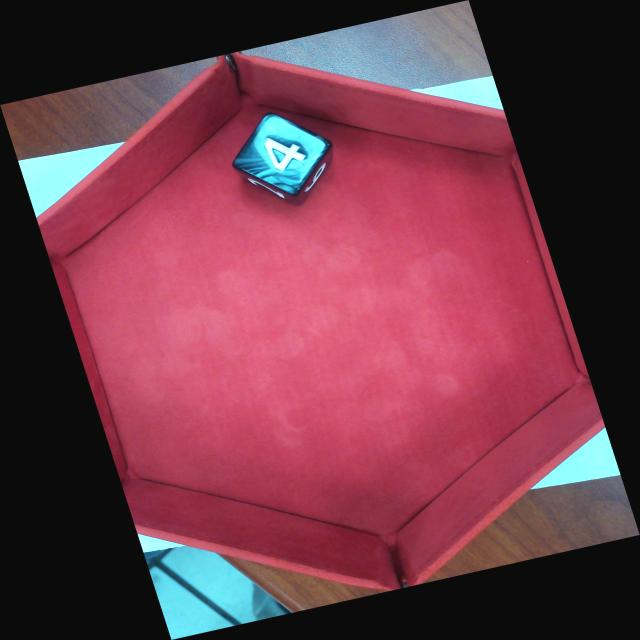dice: (229, 110, 334, 200)
